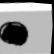correct: (0, 17, 33, 50)
